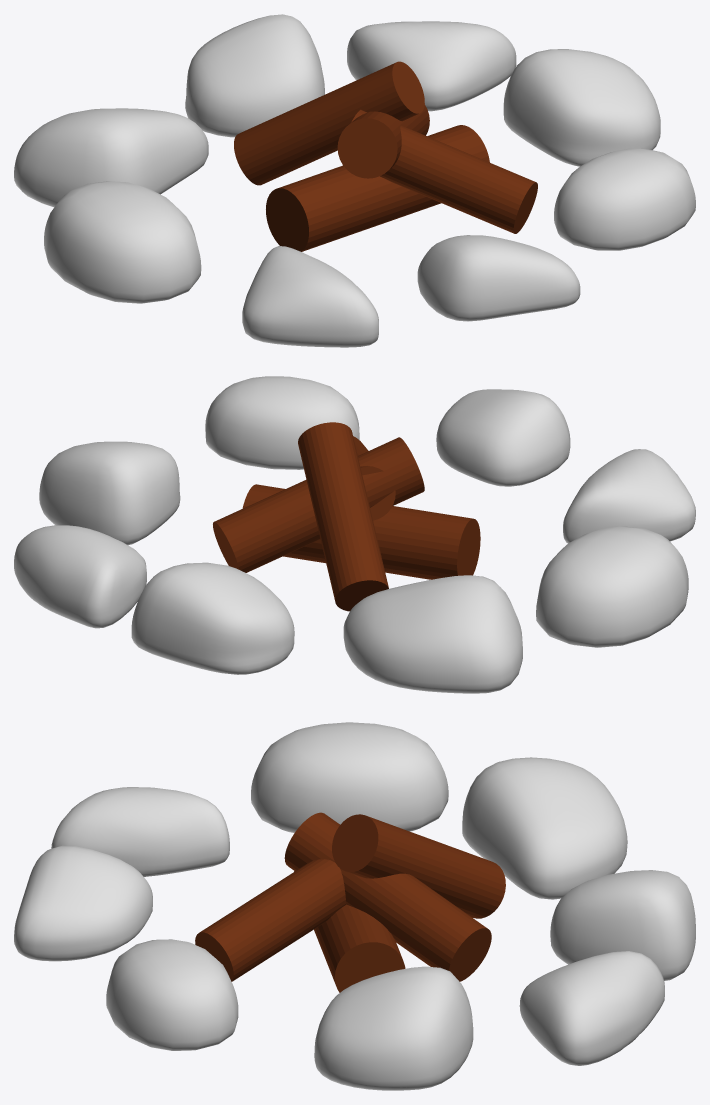
File: firecamp.glb
3 renders of one model, top to bottom at view 1: azimuth 30°, elevation 25°; view 2: azimuth 150°, elevation 25°; view 3: azimuth 270°, elevation 25°, orthographic. The views are drawn at different scales.
Visible parts, largest first — view 1: pedra, pedra7, pedra1, pedra2, pedra6, pedra5, pedra4, pedra3, lenha1, lenha, lenha3, lenha2; view 2: pedra1, pedra, pedra2, pedra7, pedra5, pedra3, lenha1, pedra6, lenha2, pedra4, lenha, lenha3; view 3: pedra1, pedra, pedra7, pedra5, pedra3, pedra6, pedra2, pedra4, lenha2, lenha1, lenha3, lenha.
Boxes of the visible parts, bbox=[...] form: pedra: bbox=[44, 181, 201, 303]; pedra7: bbox=[503, 49, 660, 166]; pedra1: bbox=[14, 108, 208, 207]; pedra2: bbox=[185, 14, 324, 137]; pedra6: bbox=[554, 148, 695, 250]; pedra5: bbox=[417, 235, 580, 321]; pedra4: bbox=[242, 246, 378, 347]; pedra3: bbox=[347, 21, 516, 111]; lenha1: bbox=[234, 61, 424, 185]; lenha: bbox=[266, 125, 489, 251]; lenha3: bbox=[351, 109, 537, 233]; lenha2: bbox=[337, 104, 429, 178]; pedra1: bbox=[343, 575, 522, 693]; pedra: bbox=[536, 526, 688, 647]; pedra2: bbox=[131, 562, 294, 674]; pedra7: bbox=[39, 441, 180, 545]; pedra5: bbox=[436, 389, 570, 486]; pedra3: bbox=[14, 525, 146, 628]; lenha1: bbox=[298, 422, 388, 611]; pedra6: bbox=[205, 376, 359, 469]; lenha2: bbox=[213, 437, 424, 572]; pedra4: bbox=[563, 449, 695, 543]; lenha: bbox=[242, 484, 480, 579]; lenha3: bbox=[353, 436, 395, 520]; pedra1: bbox=[462, 757, 627, 899]; pedra: bbox=[251, 722, 448, 832]; pedra7: bbox=[314, 966, 473, 1090]; pedra5: bbox=[14, 845, 152, 961]; pedra3: bbox=[519, 951, 664, 1065]; pedra6: bbox=[106, 939, 238, 1050]; pedra2: bbox=[550, 870, 695, 980]; pedra4: bbox=[51, 787, 229, 876]; lenha2: bbox=[284, 812, 491, 981]; lenha1: bbox=[332, 814, 505, 918]; lenha3: bbox=[195, 859, 346, 981]; lenha: bbox=[294, 871, 405, 992].
Size of the model in its own units: 1.58 by 0.3573 by 1.45.
